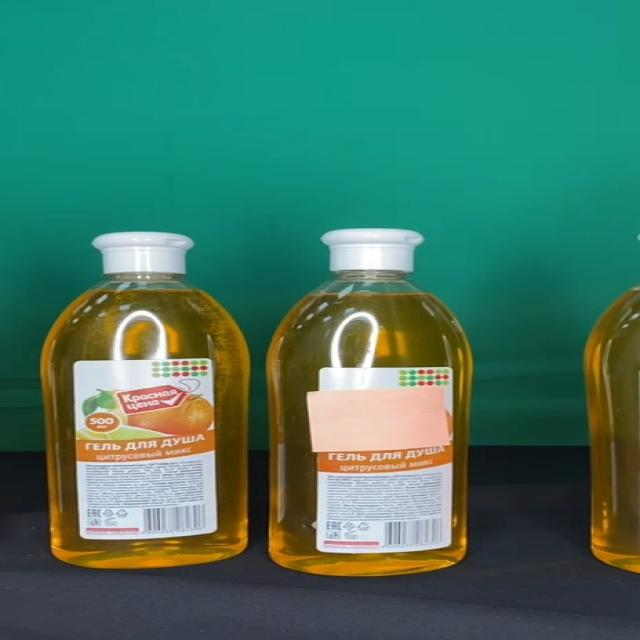Bottle: (264, 228, 473, 576), (42, 231, 250, 570)
Cap: (321, 228, 424, 271), (91, 232, 195, 274)
